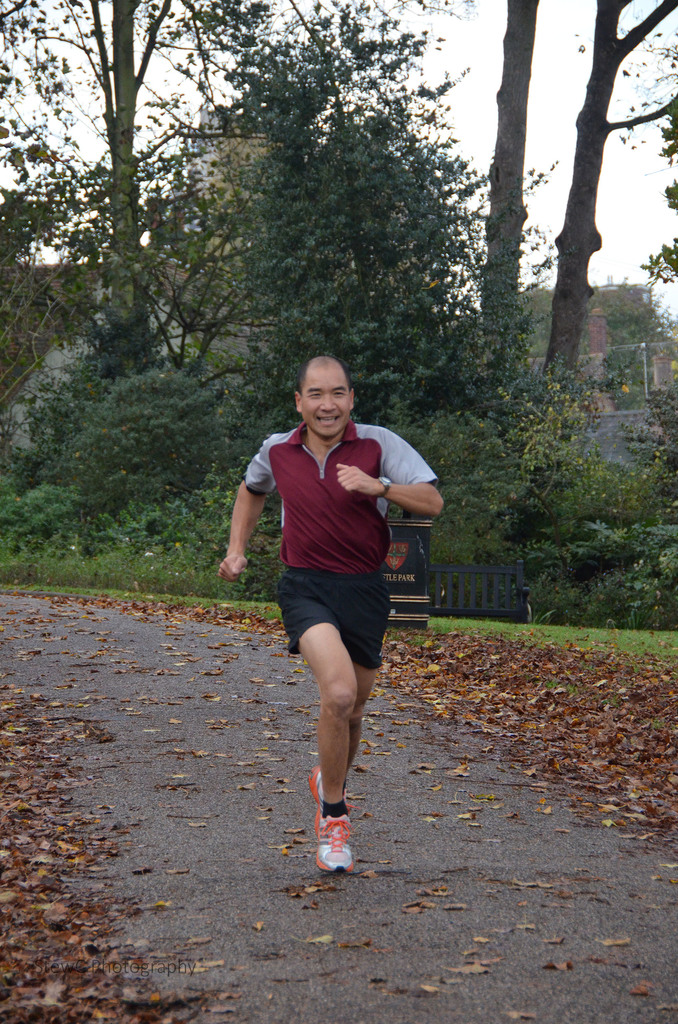Human_hand: (335, 459, 377, 490), (215, 548, 252, 582)
